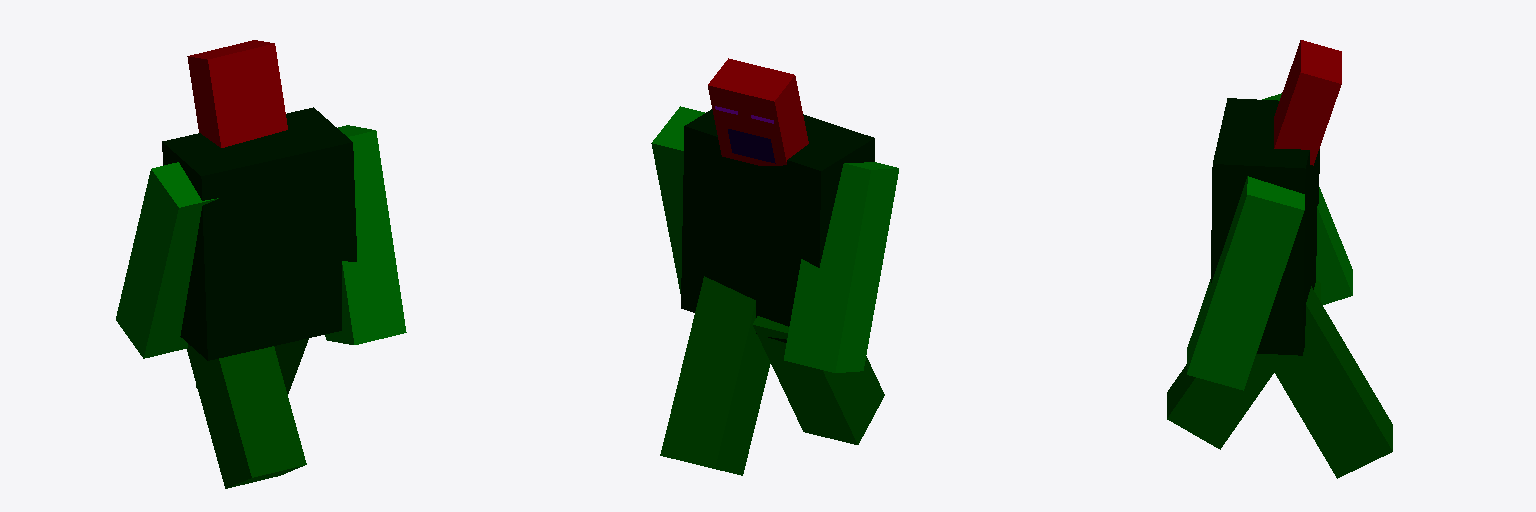
File: walk_000020.obj
The picture shows the model from 3 angles: view 1: azimuth 30°, elevation 25°; view 2: azimuth 150°, elevation 25°; view 3: azimuth 270°, elevation 25°; orthographic projection.
Parts seen in each view (by area): view 1: Cube, leg.003_Cube.002, leg_Cube.001, leg.002_Cube.006, Cube.001_Cube.003, leg.001_Cube.007; view 2: Cube, leg.003_Cube.002, leg.001_Cube.007, leg_Cube.001, Cube.001_Cube.003, leg.002_Cube.006, Plane.002; view 3: leg.002_Cube.006, Cube, leg.001_Cube.007, Cube.001_Cube.003, leg_Cube.001, leg.003_Cube.002.
Part boxes in pixels (bbox=[...]): Cube: bbox=[162, 107, 356, 360]; leg.003_Cube.002: bbox=[116, 162, 218, 358]; leg_Cube.001: bbox=[187, 344, 306, 488]; leg.002_Cube.006: bbox=[325, 125, 406, 344]; Cube.001_Cube.003: bbox=[187, 40, 287, 147]; leg.001_Cube.007: bbox=[196, 338, 308, 393]; Cube: bbox=[681, 109, 874, 342]; leg.003_Cube.002: bbox=[784, 162, 898, 372]; leg.001_Cube.007: bbox=[660, 276, 770, 475]; leg_Cube.001: bbox=[753, 316, 884, 444]; Cube.001_Cube.003: bbox=[708, 58, 808, 165]; leg.002_Cube.006: bbox=[651, 106, 704, 293]; Plane.002: bbox=[728, 129, 775, 163]; leg.002_Cube.006: bbox=[1187, 176, 1304, 390]; Cube: bbox=[1211, 98, 1319, 355]; leg.001_Cube.007: bbox=[1264, 286, 1392, 478]; Cube.001_Cube.003: bbox=[1274, 40, 1341, 165]; leg_Cube.001: bbox=[1167, 280, 1320, 449]; leg.003_Cube.002: bbox=[1262, 93, 1352, 304].
Size of the model in its own units: 3.47 by 6.3 by 3.27.